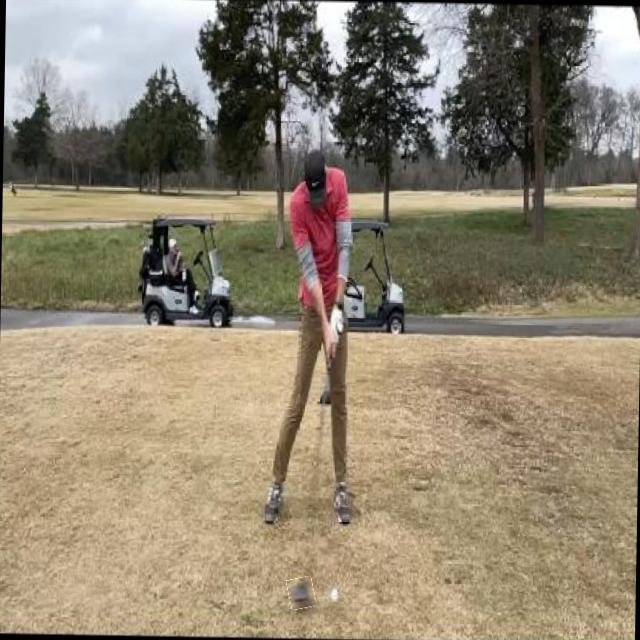club head: (286, 576, 314, 609)
